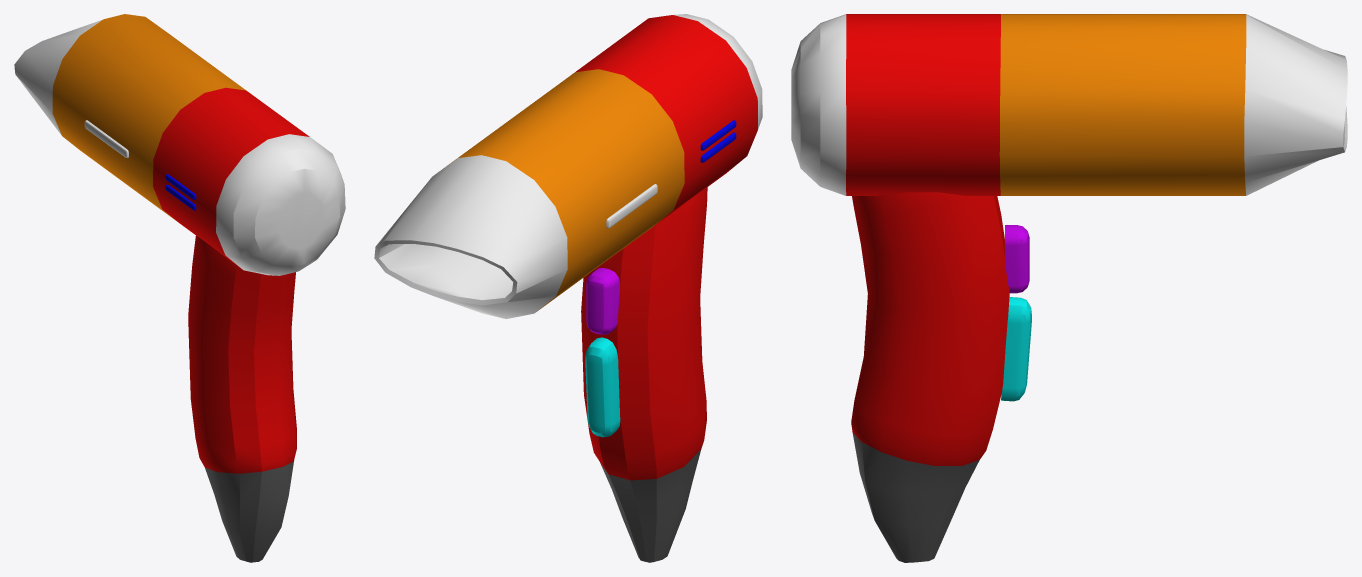
The model's file is hair_dryer.fbx.
3 views of the same model, side by side, from view 1: azimuth 30°, elevation 25°; view 2: azimuth 150°, elevation 25°; view 3: azimuth 270°, elevation 25° (orthographic). The views are drawn at different scales.
Parts seen in each view (by area): view 1: pCube1, pCube2, pCube7; view 2: pCube1, pCube2, pCube5, pCube4, pCube7; view 3: pCube1, pCube2, pCube5, pCube4.
Part boxes in pixels (x1=…): pCube1: x1=14, y1=14, x2=345, y2=275; pCube2: x1=188, y1=235, x2=296, y2=562; pCube7: x1=84, y1=120, x2=128, y2=158; pCube1: x1=374, y1=14, x2=762, y2=318; pCube2: x1=581, y1=187, x2=707, y2=562; pCube5: x1=585, y1=337, x2=620, y2=437; pCube4: x1=586, y1=268, x2=619, y2=334; pCube7: x1=606, y1=184, x2=657, y2=228; pCube1: x1=791, y1=14, x2=1347, y2=195; pCube2: x1=851, y1=192, x2=1009, y2=562; pCube5: x1=1001, y1=297, x2=1031, y2=401; pCube4: x1=1005, y1=225, x2=1029, y2=293.
Size of the model in its own units: 2.81 by 9.29 by 8.68.
